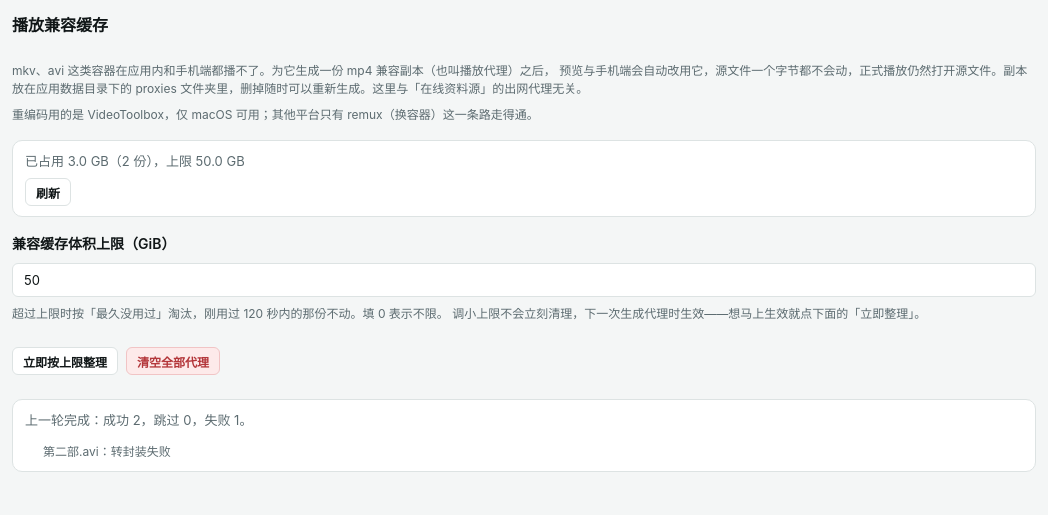
Test: ProxySection › 「立即整理」调后端并回显新的占用
This screenshot has width=1048, height=515.
Click the button with test id "proxy-enforce-limit".
click(65, 361)  # box x1=12 y1=347 x2=118 y2=375
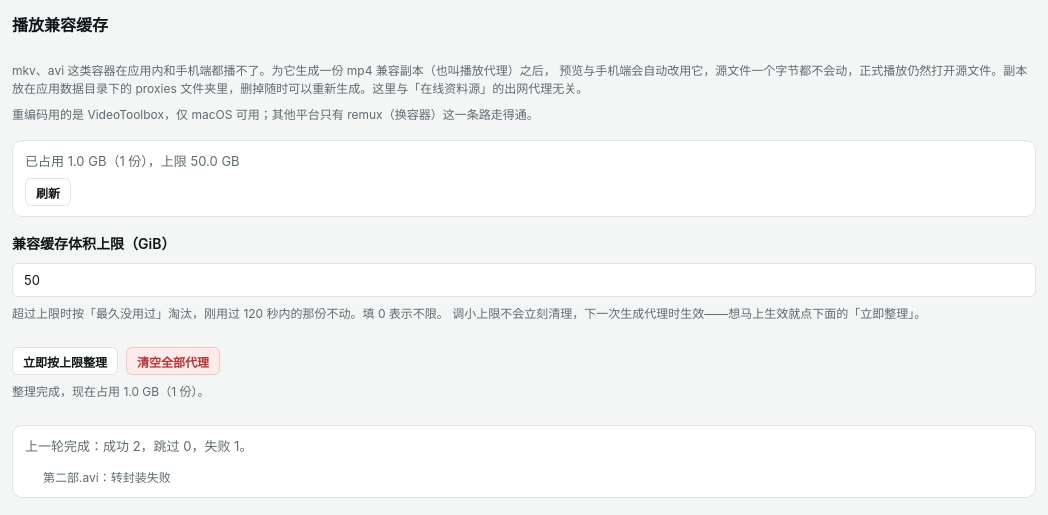
Expected: the text with test id "proxy-action-message" shows "1 份", x1=12 y1=384 x2=209 y2=399
